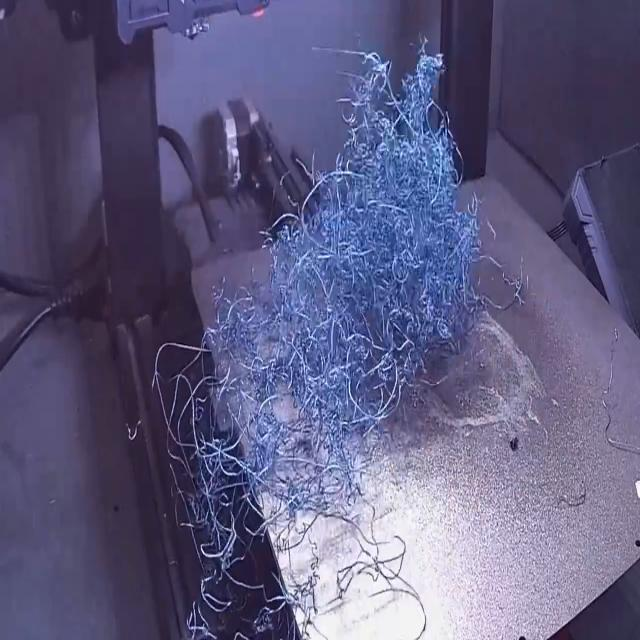spaghetti: (128, 34, 528, 640), (595, 320, 640, 463), (560, 481, 593, 525)
